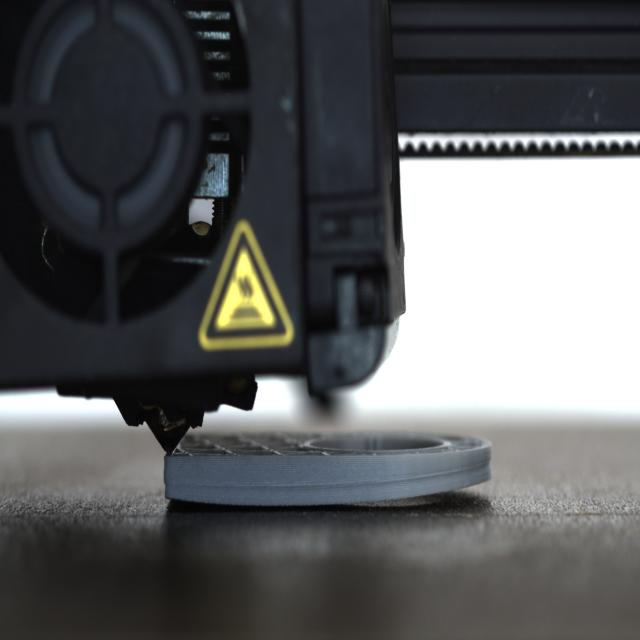Warping: (407, 462, 499, 509)
